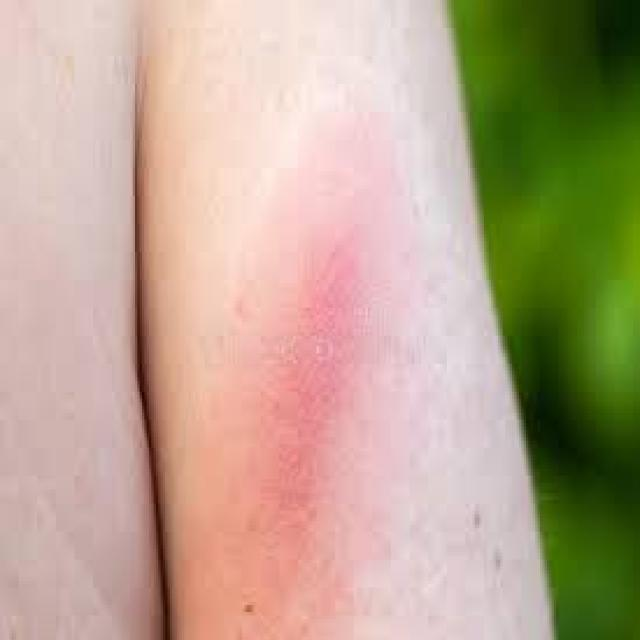kene: (247, 216, 367, 487)
